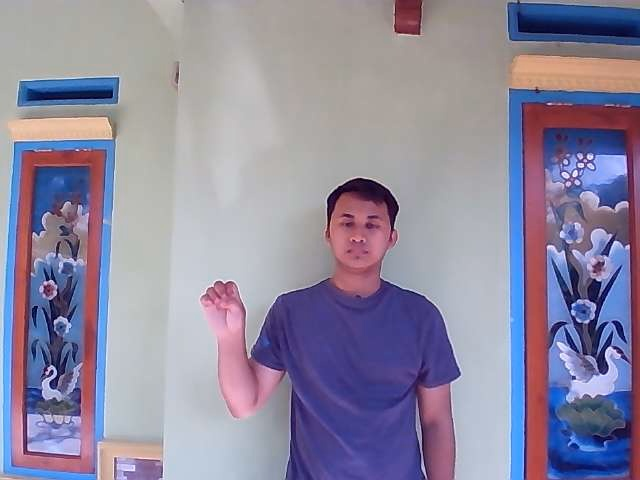E: (195, 276, 251, 355)
